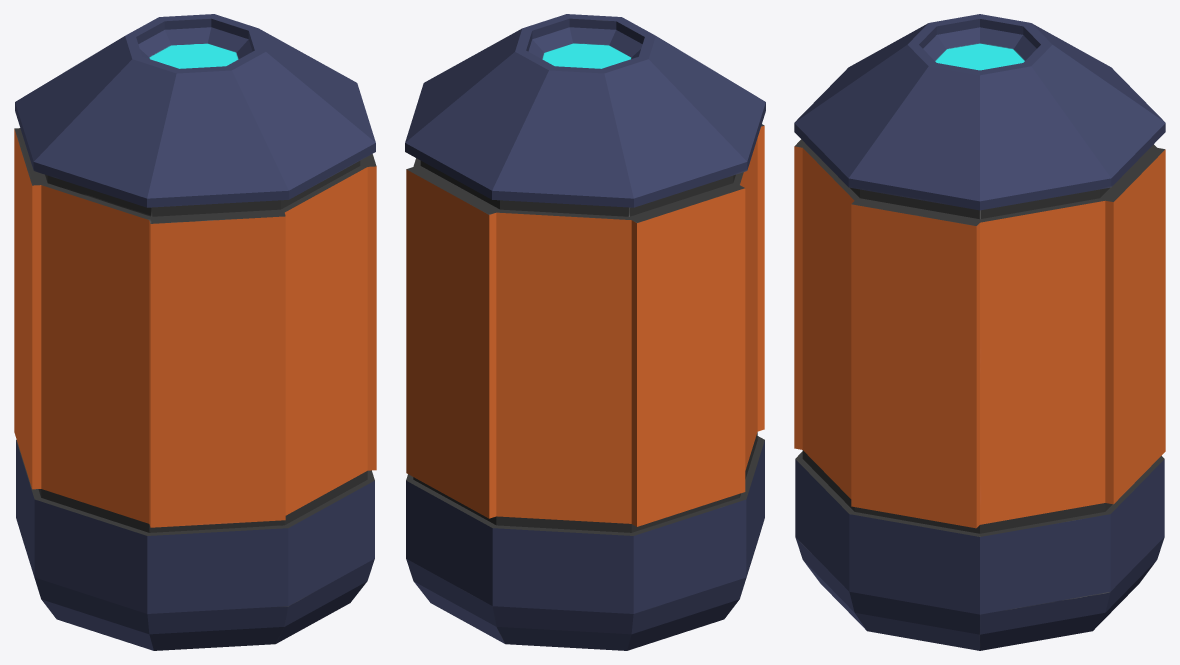
Rendered from BarrelFinalFix.fbx.
3 renders of one model, left to right at view 1: azimuth 30°, elevation 25°; view 2: azimuth 150°, elevation 25°; view 3: azimuth 270°, elevation 25°, orthographic.
Visible parts, largest first — view 1: Barrel; view 2: Barrel; view 3: Barrel.
Boxes of the visible parts, <box> form: Barrel: <box>14,14,376,650</box>; Barrel: <box>405,14,765,650</box>; Barrel: <box>794,14,1165,650</box>.
Bounding box in the file's own units: 50 × 80 × 50.
